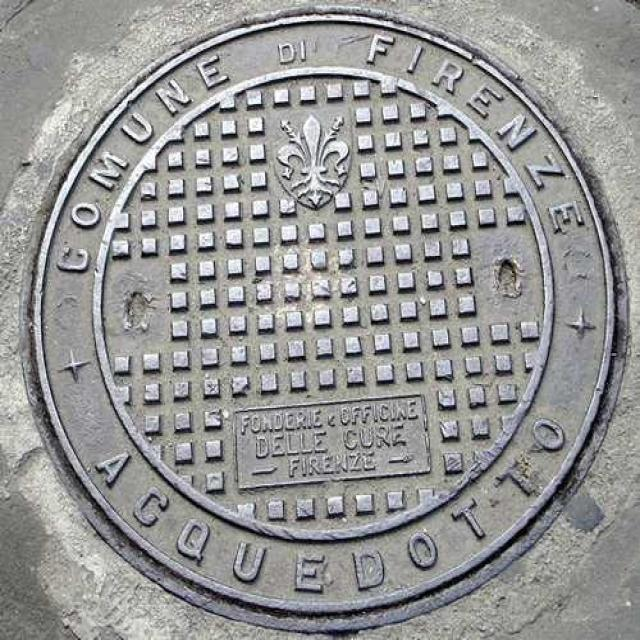manhole: (34, 12, 615, 628)
